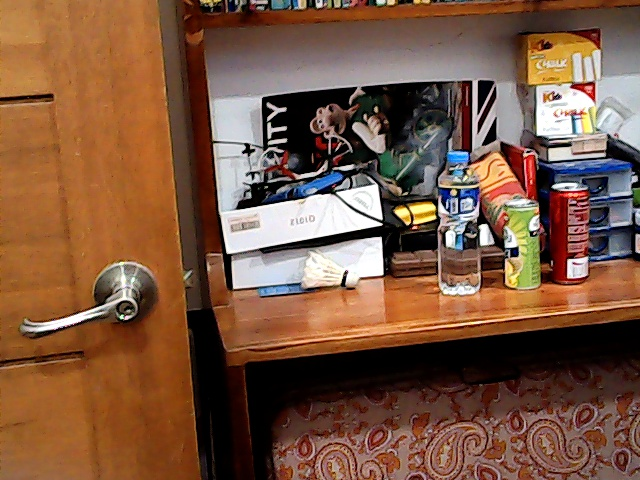Cola: (542, 173, 597, 287)
Pine Juice: (496, 193, 545, 295)
Summit Water: (433, 140, 483, 296)
